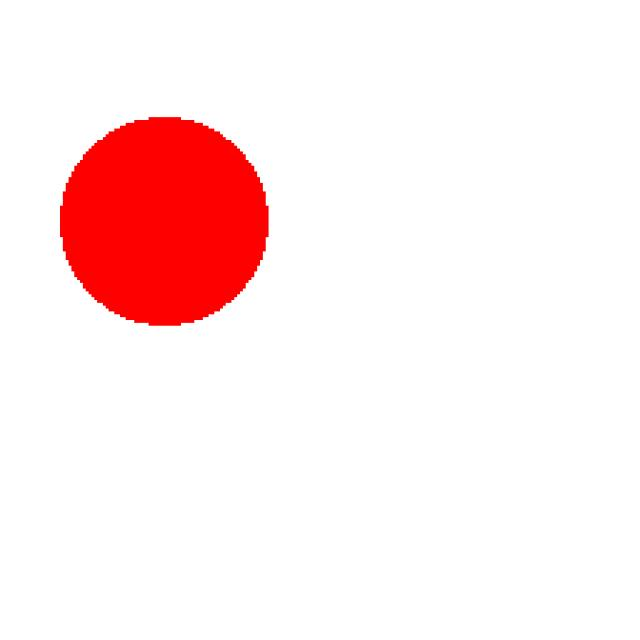Circle: (44, 93, 317, 343)
